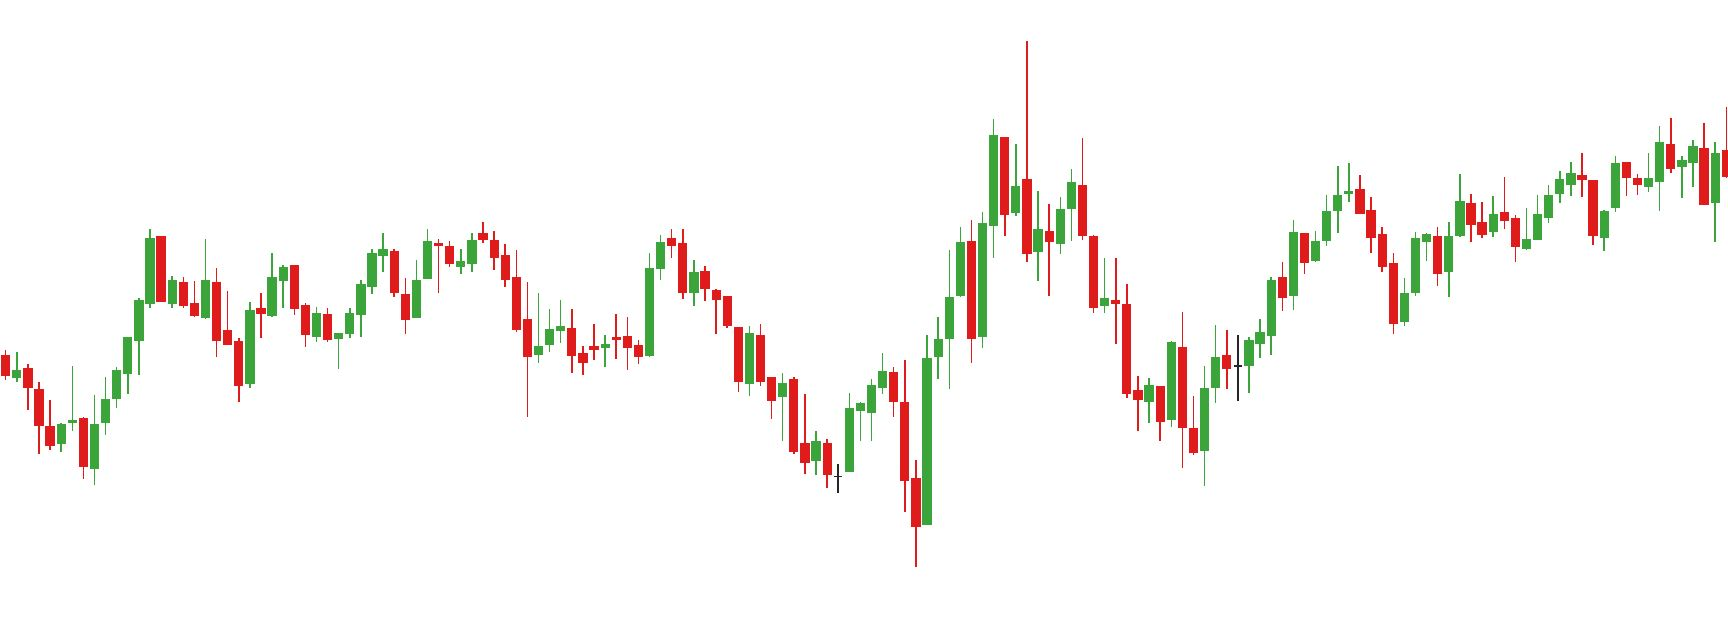buy: (133, 284, 257, 407), (834, 413, 930, 569), (1277, 236, 1410, 333)
sell: (512, 229, 689, 331)
